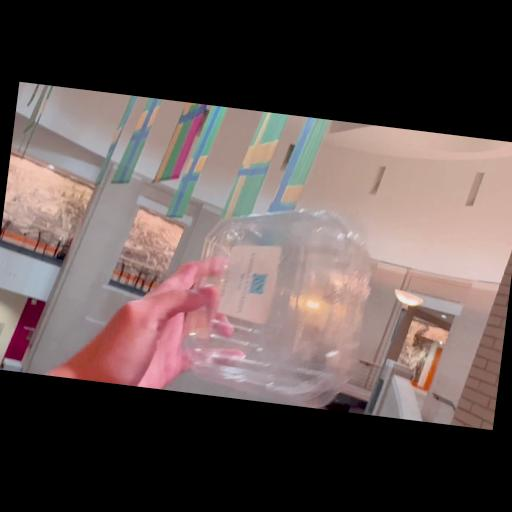small_plastic_container: (170, 192, 378, 412)
